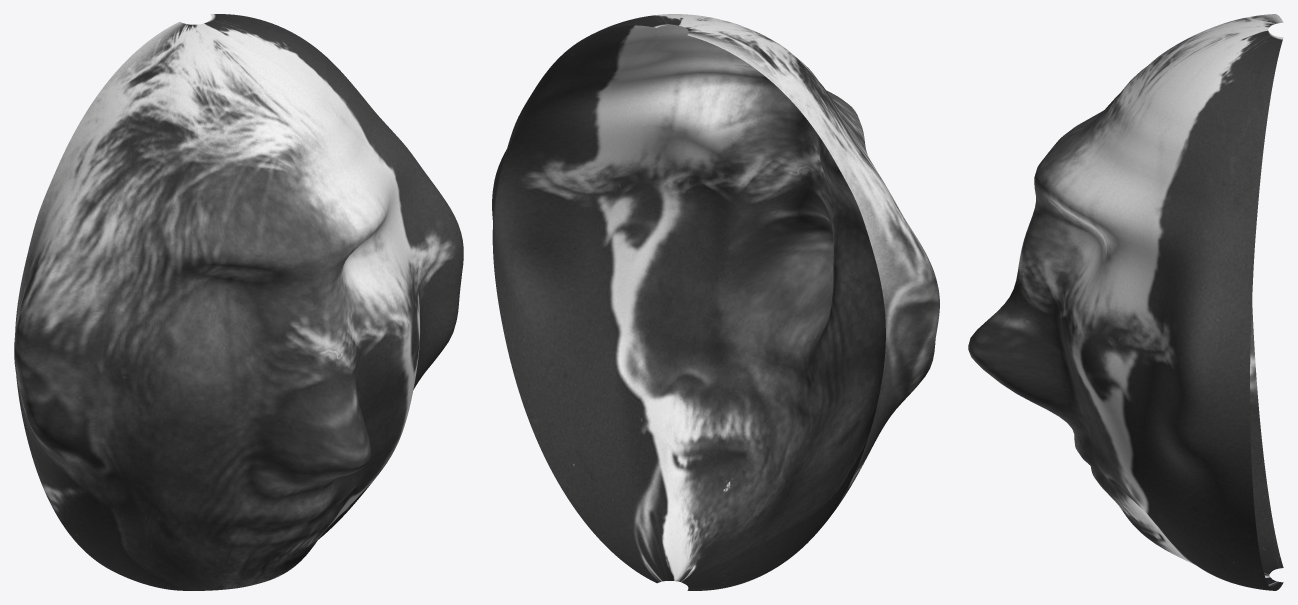
Rendered from escher_face.glb.
3 renders of one model, left to right at view 1: azimuth 30°, elevation 25°; view 2: azimuth 150°, elevation 25°; view 3: azimuth 270°, elevation 25°, orthographic. The views are drawn at different scales.
Visible parts, largest first — view 1: MCEscherFace; view 2: MCEscherFace; view 3: MCEscherFace.
Boxes of the visible parts, x1,y1,x2,y2 form: MCEscherFace: (14,14,463,590); MCEscherFace: (492,14,939,590); MCEscherFace: (968,14,1283,590).
Bounding box in the file's own units: 0.9142 × 1.1 × 0.575.
1 material, 1 textured.
